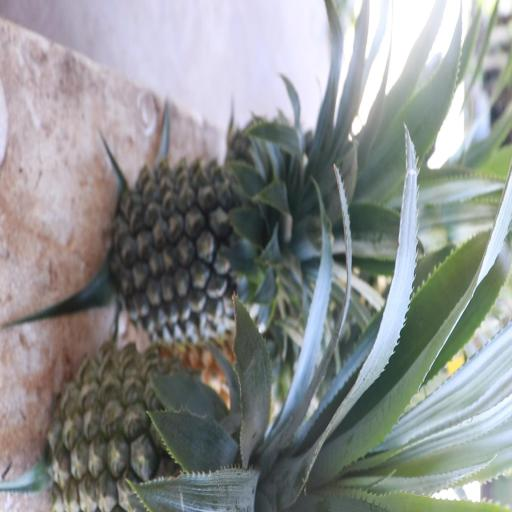------------------------------: (51, 307, 270, 512)
